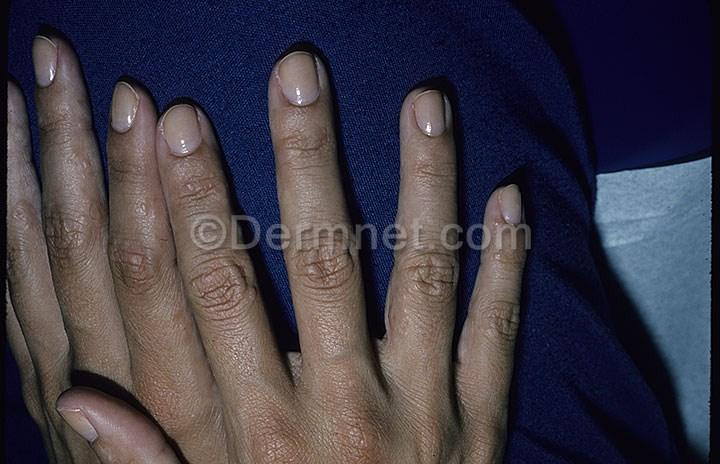Eczema: (120, 249, 172, 300), (124, 186, 162, 242), (57, 79, 96, 132), (62, 139, 105, 187), (10, 195, 40, 246), (9, 114, 40, 157)
